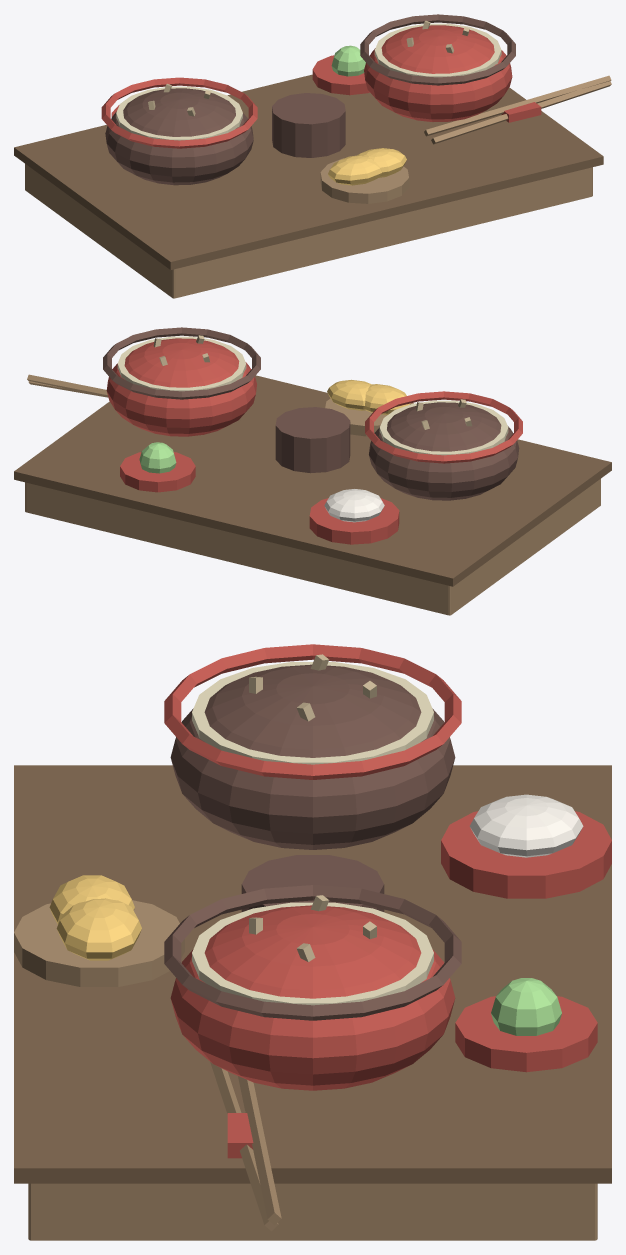
Rendered from soba_bowls.glb.
3 renders of one model, top to bottom at view 1: azimuth 30°, elevation 25°; view 2: azimuth 150°, elevation 25°; view 3: azimuth 270°, elevation 25°, orthographic. The views are drawn at different scales.
Visible parts, largest first — view 1: soba_bowls; view 2: soba_bowls; view 3: soba_bowls.
Part boxes in pixels (x1=…): soba_bowls: x1=14, y1=14, x2=611, y2=298; soba_bowls: x1=14, y1=327, x2=611, y2=615; soba_bowls: x1=14, y1=644, x2=611, y2=1240.
Bounding box in the file's own units: 0.7849 × 0.1905 × 0.42.
